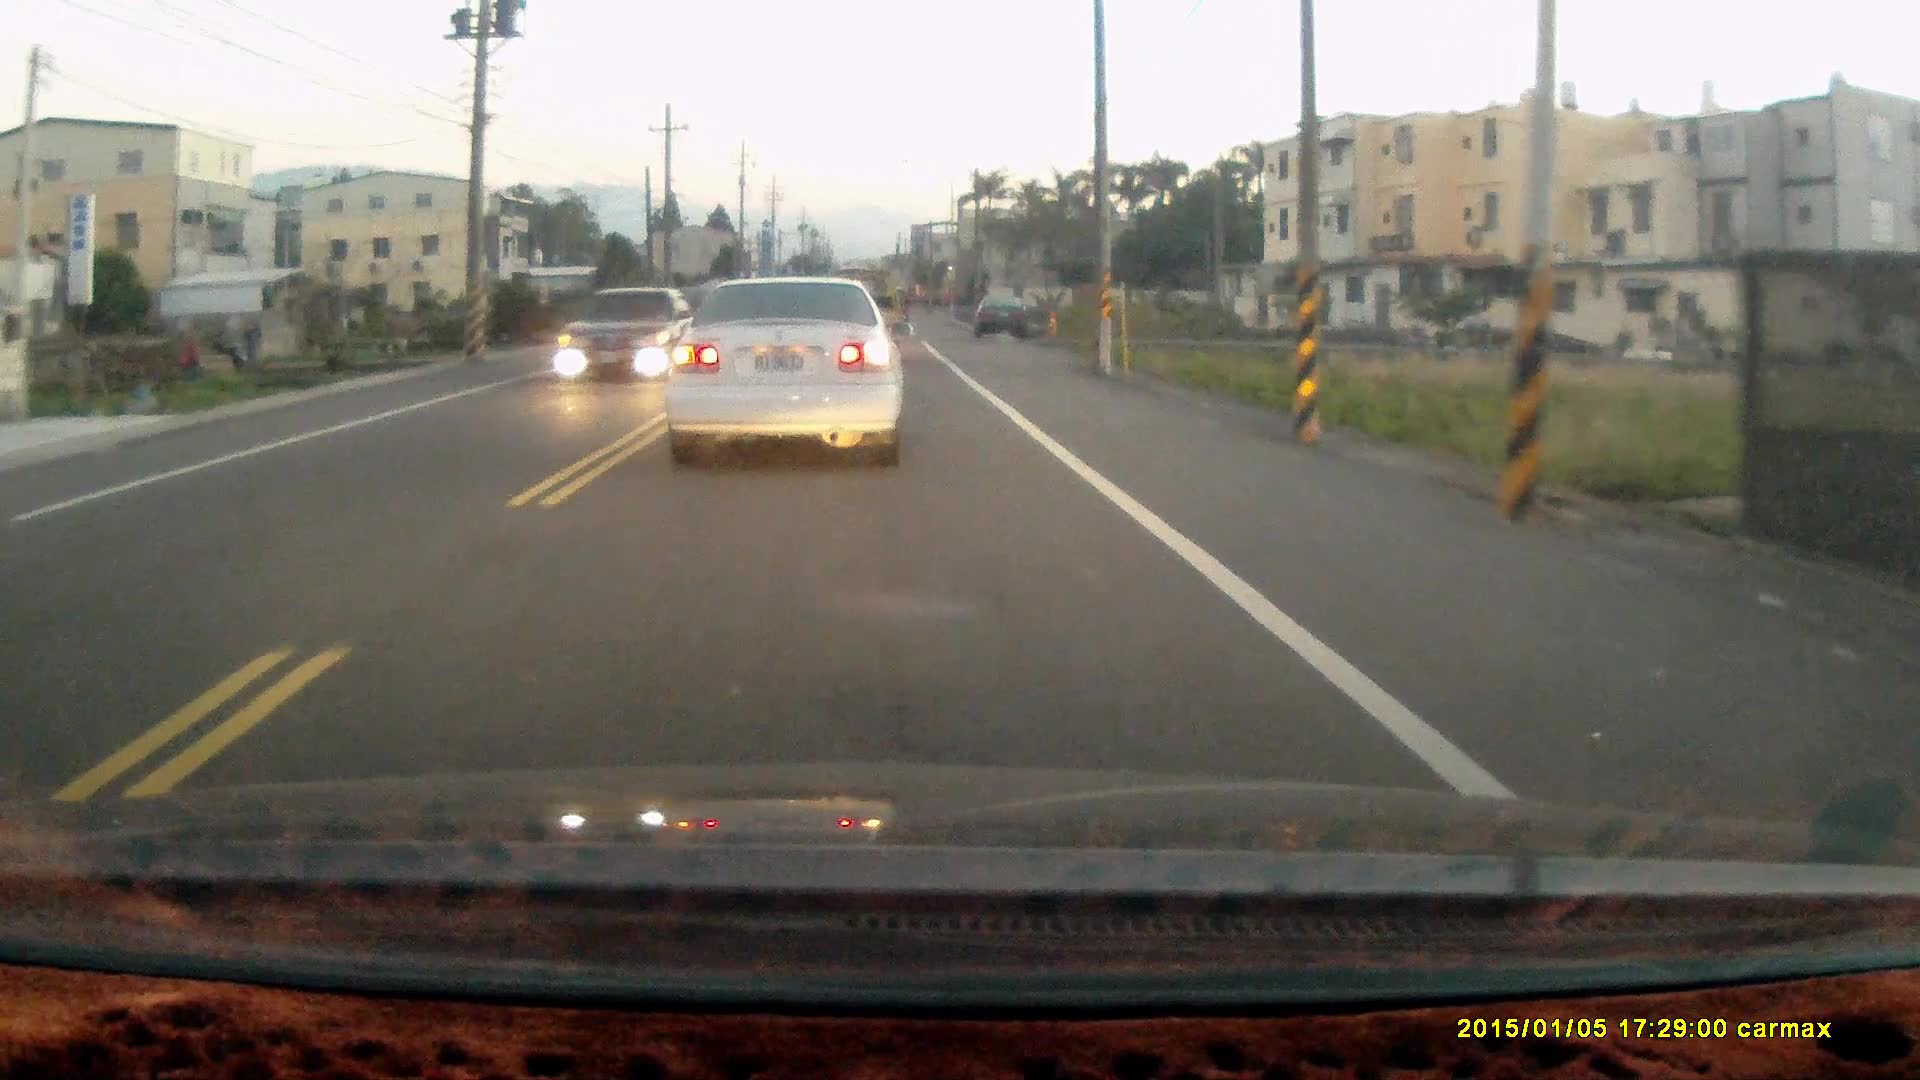pedestrian: (177, 338, 200, 384), (242, 320, 262, 369)
vehicle: (663, 276, 907, 477), (558, 290, 697, 384), (976, 295, 1042, 344)
